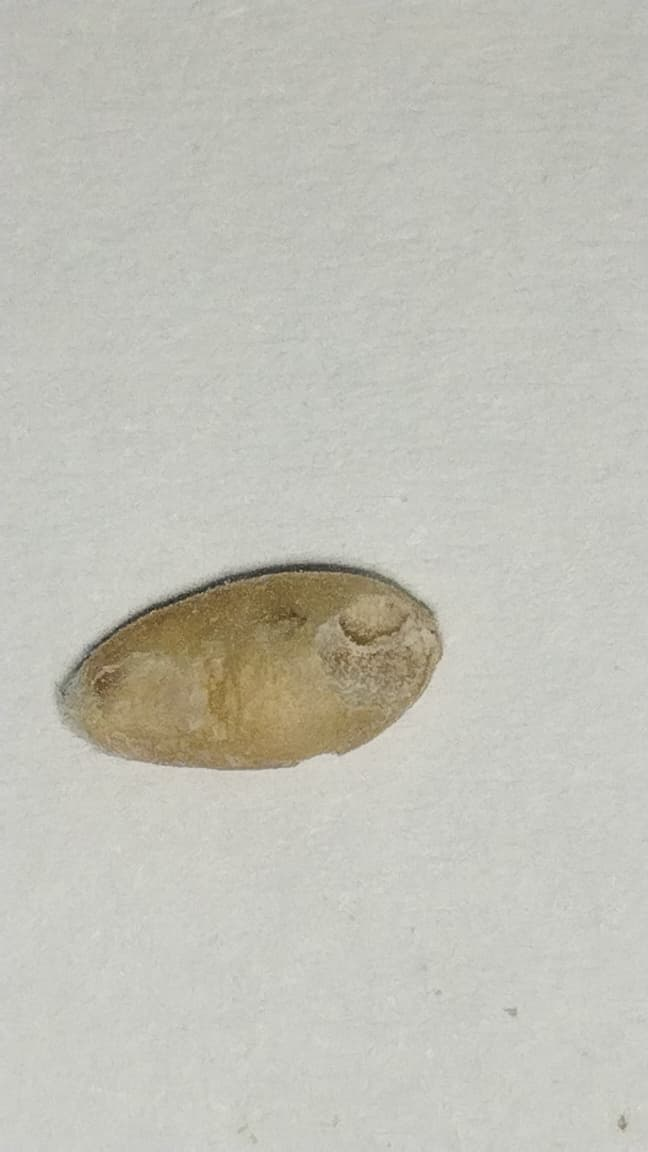damage: (57, 561, 442, 769)
insectdamage: (83, 642, 259, 752), (304, 569, 437, 703)
